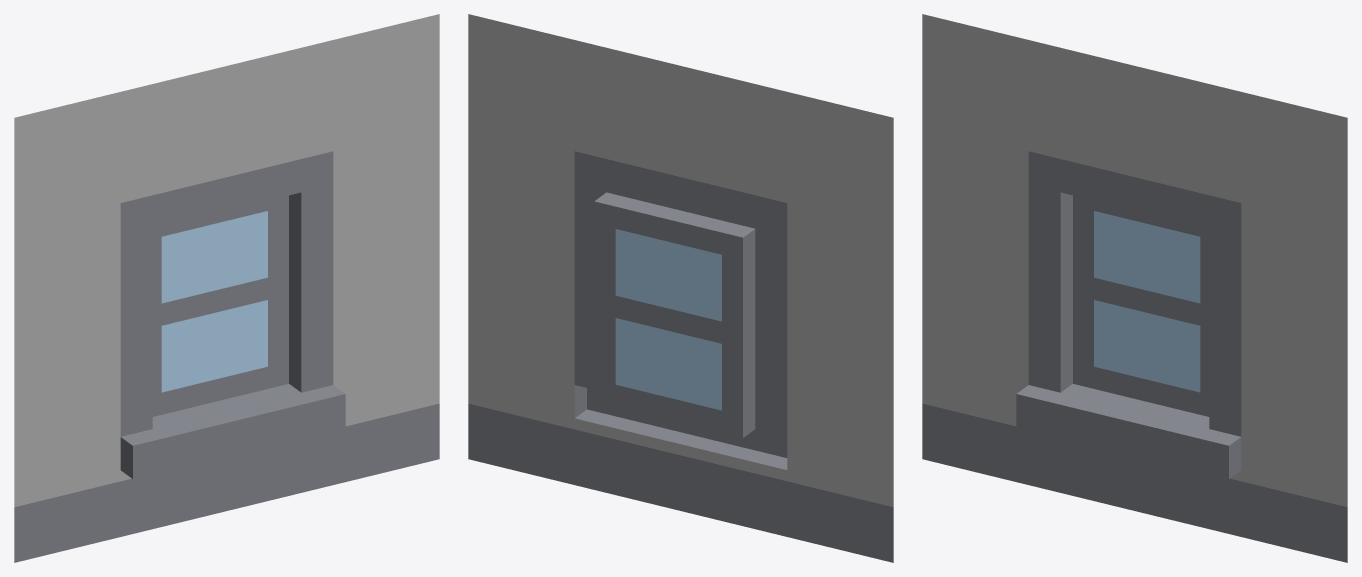
Rendered from wall_windowB.fbx.
3 views of the same model, side by side, from view 1: azimuth 30°, elevation 25°; view 2: azimuth 150°, elevation 25°; view 3: azimuth 330°, elevation 25° (orthographic).
Visible parts, largest first — view 1: wall_windowB; view 2: wall_windowB; view 3: wall_windowB.
Boxes of the visible parts, x1,y1,x2,y2 form: wall_windowB: (14,14,439,562); wall_windowB: (468,14,893,562); wall_windowB: (922,14,1347,562).
Size of the model in its own units: 4 by 4 by 0.4.
